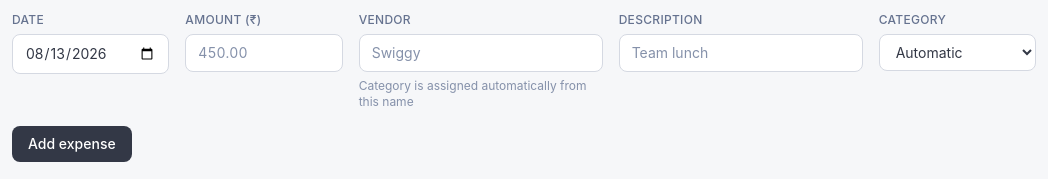
Scenario: ExpenseForm › blocks submission and names the offending fields
Clear the field labelled "Amount (₹)" at (264, 53), box [185,34,343,72]
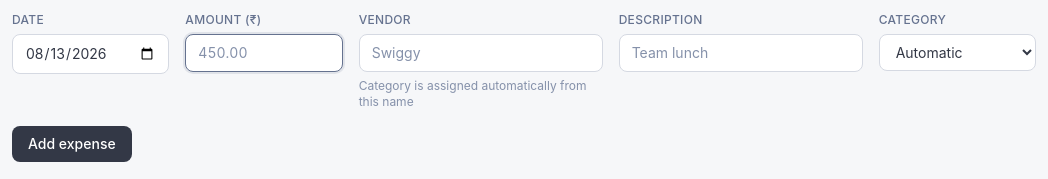
Click the button "Add expense" at (72, 144), box [12,126,132,162]
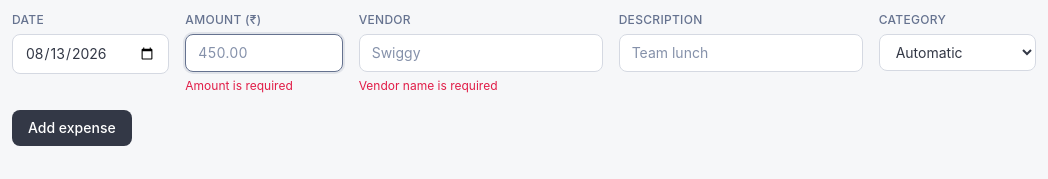
Now the text "Amount is required" is shown, box [185,78,293,93]
Now the text "Vendor name is required" is shown, box [359,78,498,93]
